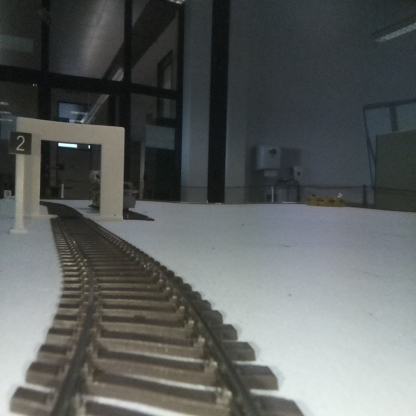black-info-2: (9, 132, 31, 232)
